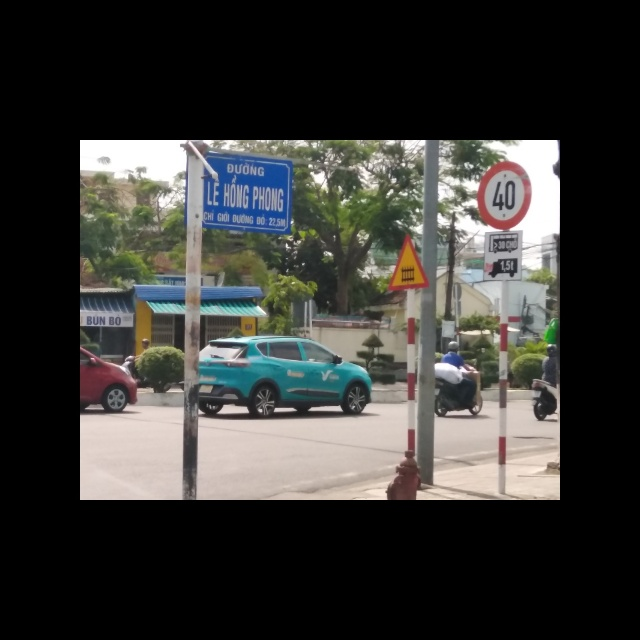Giao nhau với đường sắt có rào chắn: (389, 232, 430, 291)
Tốc độ tối đa cho phép 40km/h: (476, 161, 533, 230)
